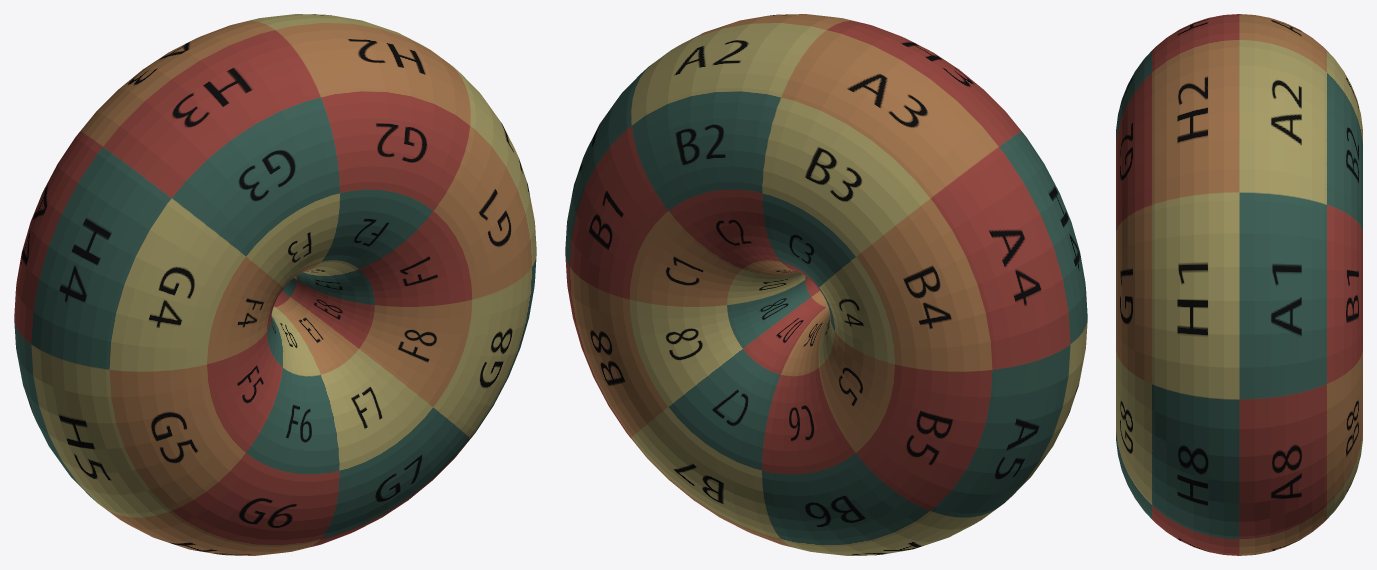
Rendered from texture_torus_R0_r24.glb.
3 views of the same model, side by side, from view 1: azimuth 30°, elevation 25°; view 2: azimuth 150°, elevation 25°; view 3: azimuth 270°, elevation 25° (orthographic). The views are drawn at different scales.
Visible parts, largest first — view 1: world; view 2: world; view 3: world.
Part boxes in pixels (x1,y1,x2,y2): world: [14, 14, 536, 555]; world: [565, 14, 1087, 555]; world: [1116, 14, 1362, 555].
Bounding box in the file's own units: 18.4 × 18.36 × 8.38.
1 material, 1 textured.
